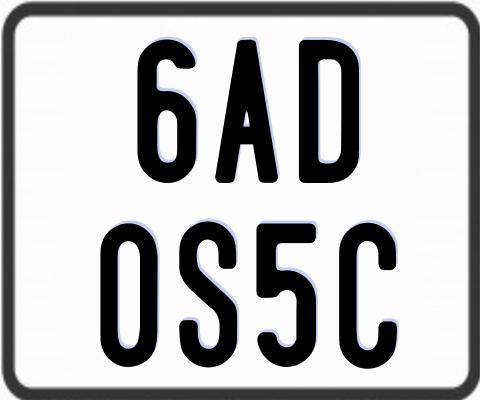0: (100, 221, 163, 367)
5: (256, 220, 317, 366)
6: (134, 36, 198, 186)
A: (212, 37, 278, 184)
C: (337, 221, 398, 371)
D: (296, 37, 356, 186)
S: (178, 220, 242, 369)
